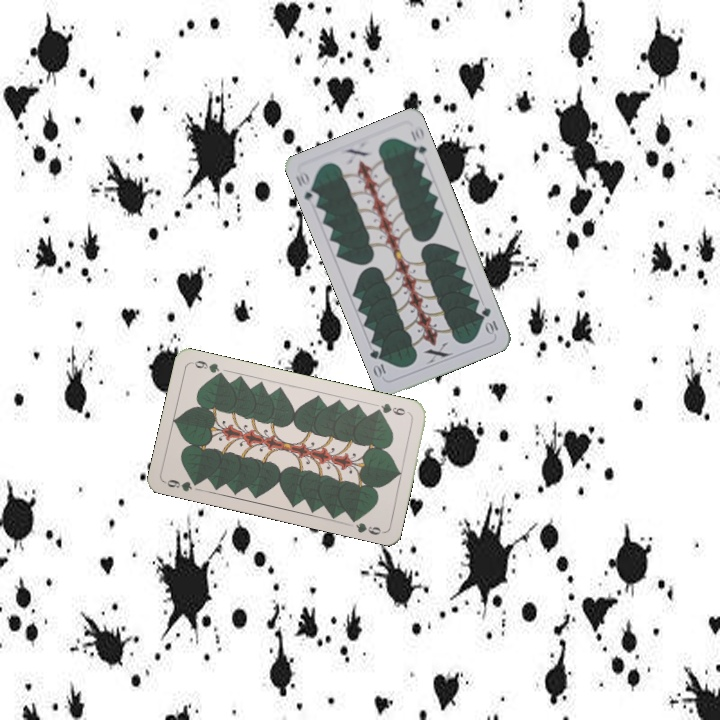G10: (292, 168, 321, 208), (477, 303, 501, 337)
G9: (161, 475, 203, 494), (371, 399, 412, 418)
